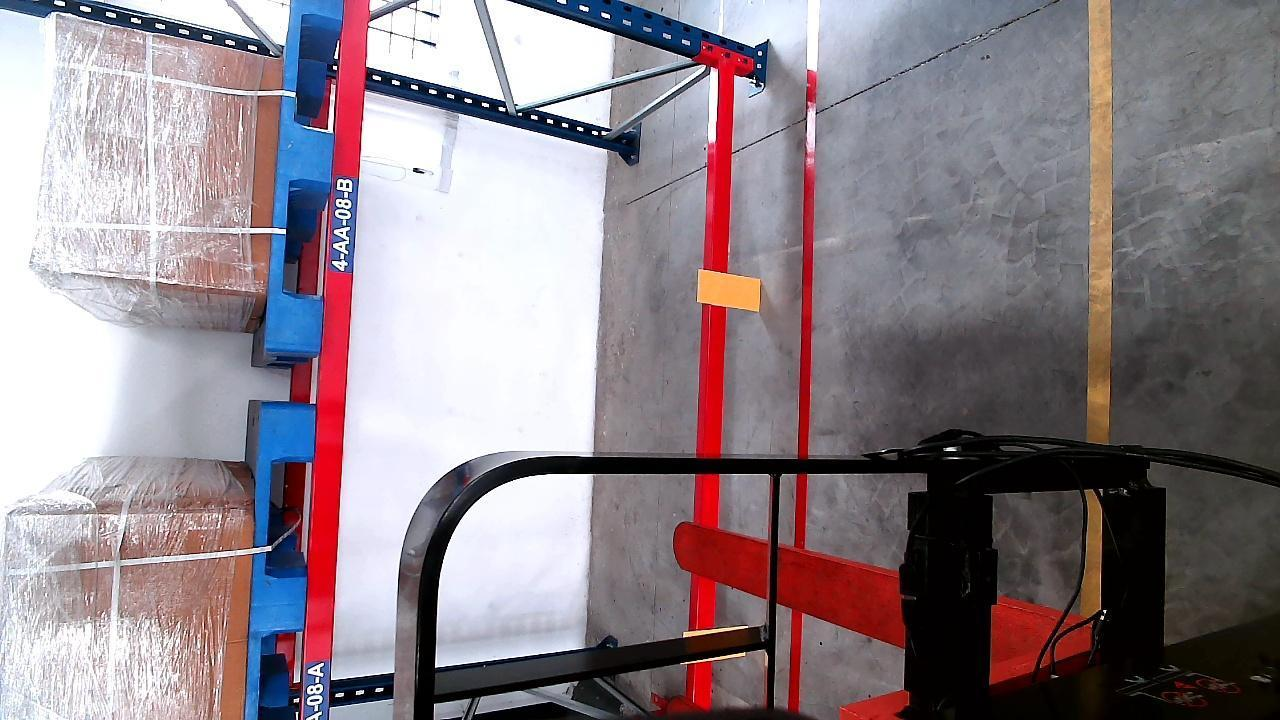h_rack: (300, 0, 368, 720), (693, 65, 734, 710)
orange_strip: (700, 272, 762, 309)
red_line: (786, 66, 819, 706)
small_pallet: (269, 3, 345, 358), (246, 411, 316, 720)
yellow_line: (1089, 0, 1116, 438)
